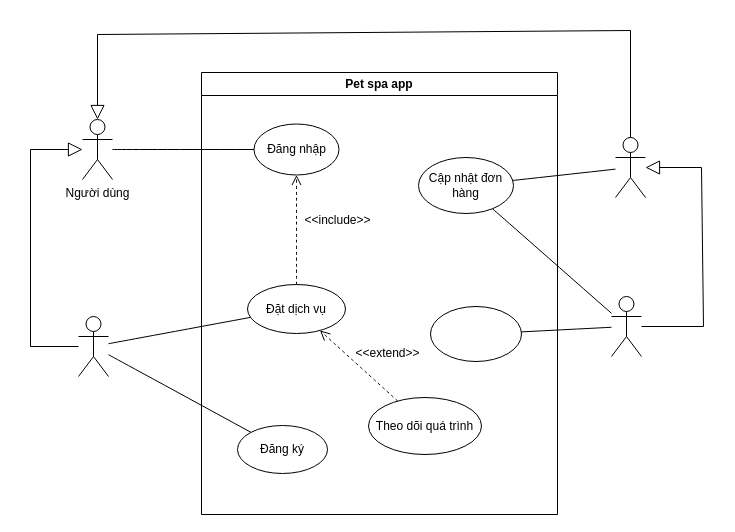
The diagram is 735 pixels wide and 532 high, and some of its shapes have lost their labels. The shapes that lost their labels are listed below. From the top down, each one's centre as x and y in pixels, then its label:
the point at 630,167: Nhân viên
the point at 93,346: Khách hàng
the point at 476,334: Quản lý nhân viên
the point at 626,326: Quản lý
